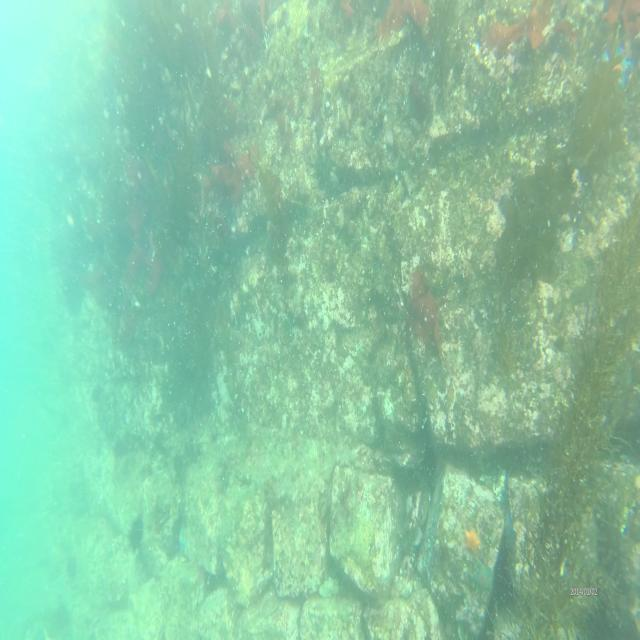echinus: (63, 278, 86, 315), (127, 515, 146, 548)
starfish: (601, 40, 635, 93), (471, 562, 492, 594), (464, 526, 482, 558), (176, 526, 186, 554)
